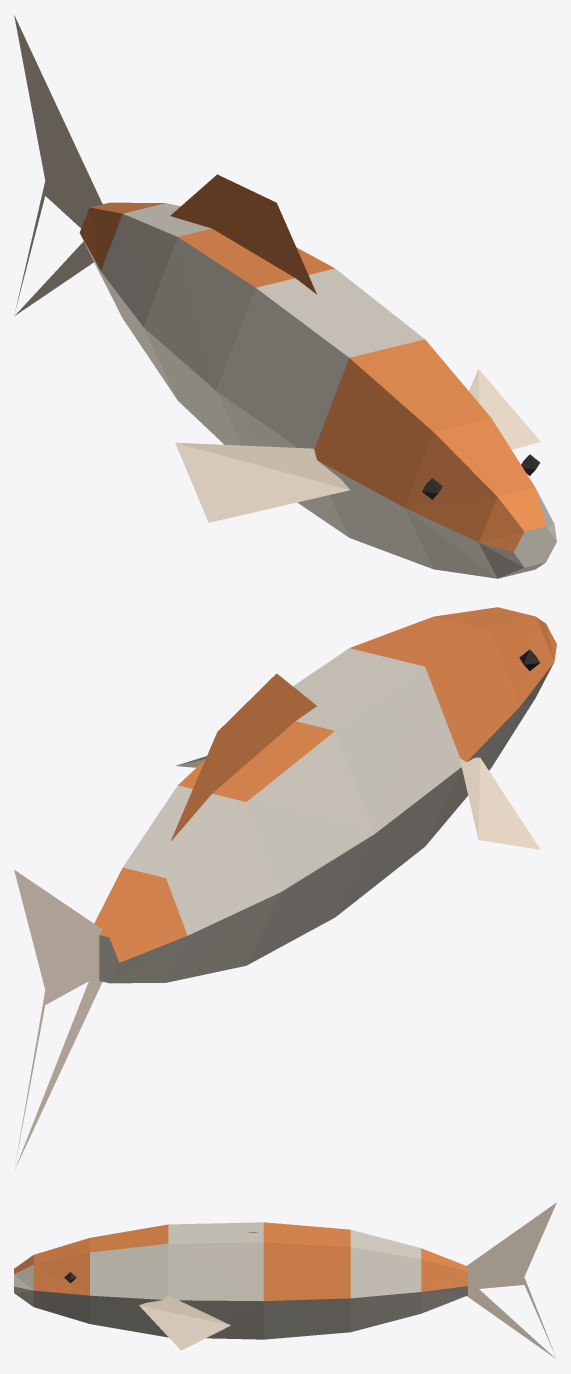
Rendered from koi.glb.
3 views of the same model, one above another, from view 1: azimuth 30°, elevation 25°; view 2: azimuth 150°, elevation 25°; view 3: azimuth 270°, elevation 25° (orthographic). The views are drawn at different scales.
Parts seen in each view (by area): view 1: koi; view 2: koi; view 3: koi.
Part boxes in pixels (x1,y1,x2,y2): koi: [14, 15, 556, 578]; koi: [14, 607, 556, 1168]; koi: [14, 1202, 556, 1358].
Size of the model in its own units: 0.184 by 0.162 by 0.5.
